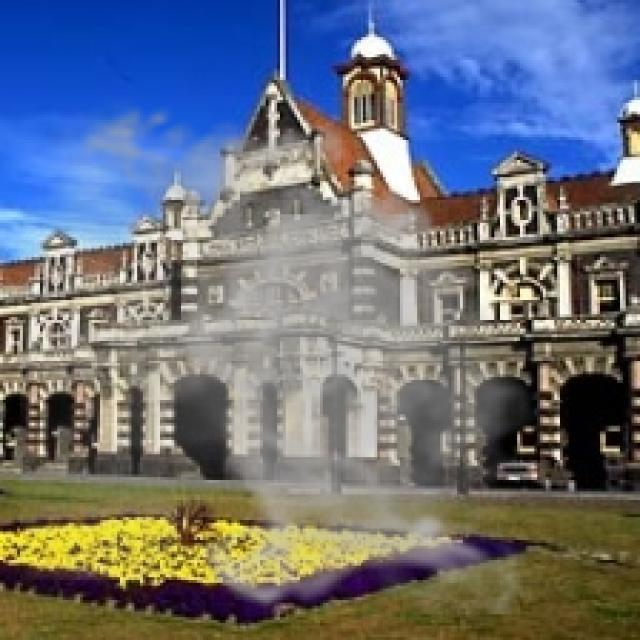Smoke: (19, 91, 552, 614)
